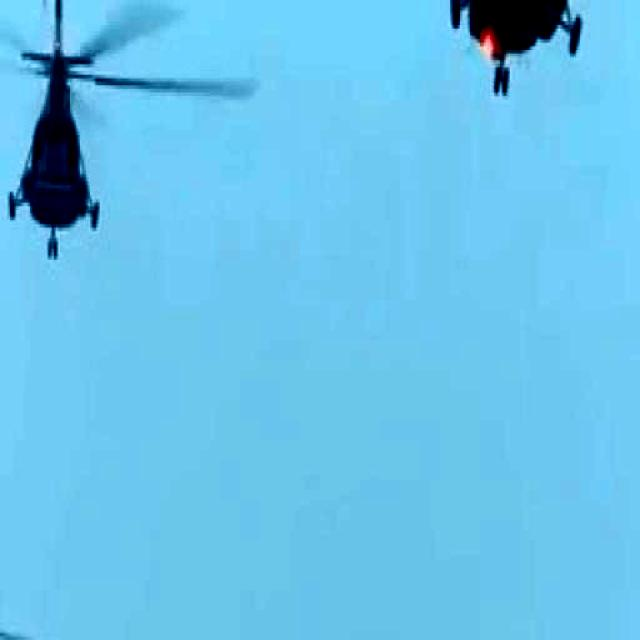drone: (0, 0, 269, 265)
